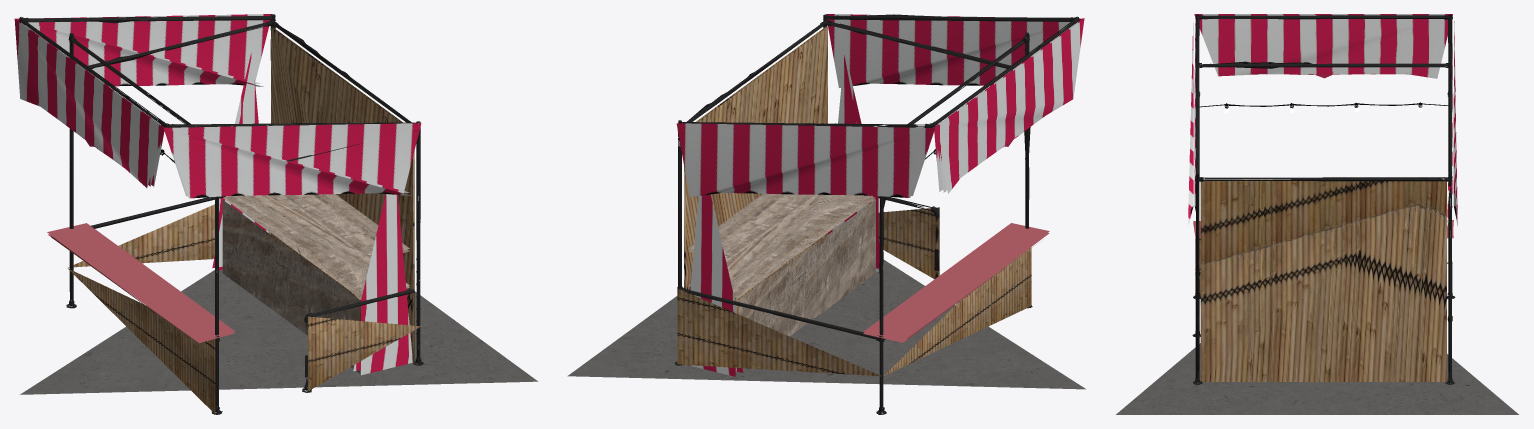
File: market_stall_1.glb
The picture shows the model from 3 angles, left to right: view 1: azimuth 30°, elevation 25°; view 2: azimuth 150°, elevation 25°; view 3: azimuth 270°, elevation 25°; orthographic projection. The views are drawn at different scales.
Parts seen in each view (by area): view 1: Canopy, Floor_1, Left_side, Back_counter, Counter_top_2, Side, Front_panel, Counter_top, Metal, Lower_Left_side, Lower_right_side, Shelf (+4 smaller); view 2: Canopy, Floor_1, Left_side, Back_counter, Lower_right_side, Counter_top_2, Counter_top, Front_panel, SIde, Lower_Left_side, Shelf, Metal_c4d_Metal Galvanized Rough_0.001 (+4 smaller); view 3: Left_side, Canopy, Floor_1, Metal, Metal_c4d_Metal Galvanized Rough_0.001, Metal_c4d_Metal Galvanized Rough_0.002, FESTOON_LIGHTS_7872_7873_STL_1_1.
Part boxes in pixels (x1=…): Canopy: x1=14, y1=14, x2=421, y2=198; Floor_1: x1=20, y1=269, x2=537, y2=394; Left_side: x1=271, y1=27, x2=414, y2=362; Back_counter: x1=222, y1=200, x2=359, y2=373; Counter_top_2: x1=47, y1=223, x2=234, y2=343; Side: x1=353, y1=194, x2=412, y2=375; Front_panel: x1=67, y1=268, x2=215, y2=413; Counter_top: x1=223, y1=195, x2=409, y2=299; Metal: x1=24, y1=16, x2=420, y2=392; Lower_Left_side: x1=308, y1=316, x2=420, y2=390; Lower_right_side: x1=68, y1=204, x2=270, y2=267; Shelf: x1=280, y1=194, x2=409, y2=260; Canopy: x1=676, y1=14, x2=1084, y2=197; Floor_1: x1=567, y1=260, x2=1085, y2=389; Left_side: x1=684, y1=26, x2=827, y2=314; Back_counter: x1=738, y1=199, x2=875, y2=373; Lower_right_side: x1=677, y1=288, x2=881, y2=376; Counter_top_2: x1=863, y1=223, x2=1049, y2=342; Counter_top: x1=688, y1=194, x2=875, y2=297; Front_panel: x1=884, y1=247, x2=1031, y2=375; SIde: x1=688, y1=194, x2=743, y2=376; Lower_Left_side: x1=878, y1=207, x2=939, y2=278; Shelf: x1=688, y1=193, x2=818, y2=260; Metal_c4d_Metal Galvanized Rough_0.001: x1=675, y1=14, x2=1079, y2=414; Left_side: x1=1200, y1=179, x2=1446, y2=381; Canopy: x1=1188, y1=14, x2=1457, y2=226; Floor_1: x1=1116, y1=343, x2=1518, y2=414; Metal: x1=1192, y1=17, x2=1452, y2=379; Metal_c4d_Metal Galvanized Rough_0.001: x1=1193, y1=14, x2=1455, y2=384; Metal_c4d_Metal Galvanized Rough_0.002: x1=1195, y1=61, x2=1452, y2=278; FESTOON_LIGHTS_7872_7873_STL_1_1: x1=1200, y1=102, x2=1448, y2=112.
Bounding box in the file's own units: 4.52 × 3.24 × 4.52.
15 materials, 11 textured.
